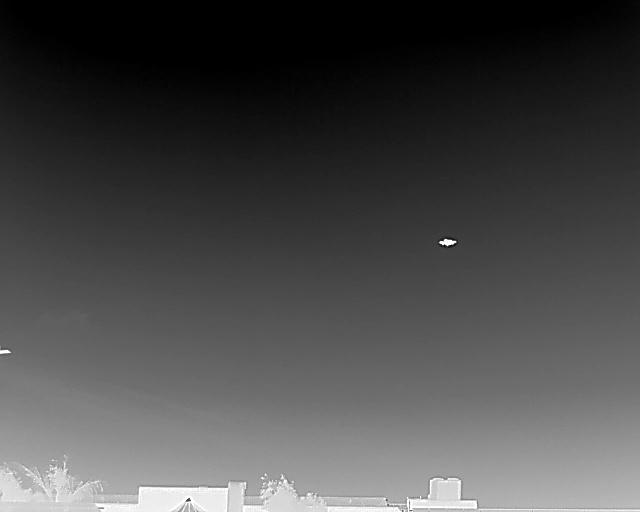fpv-drone: (438, 237, 457, 248)
